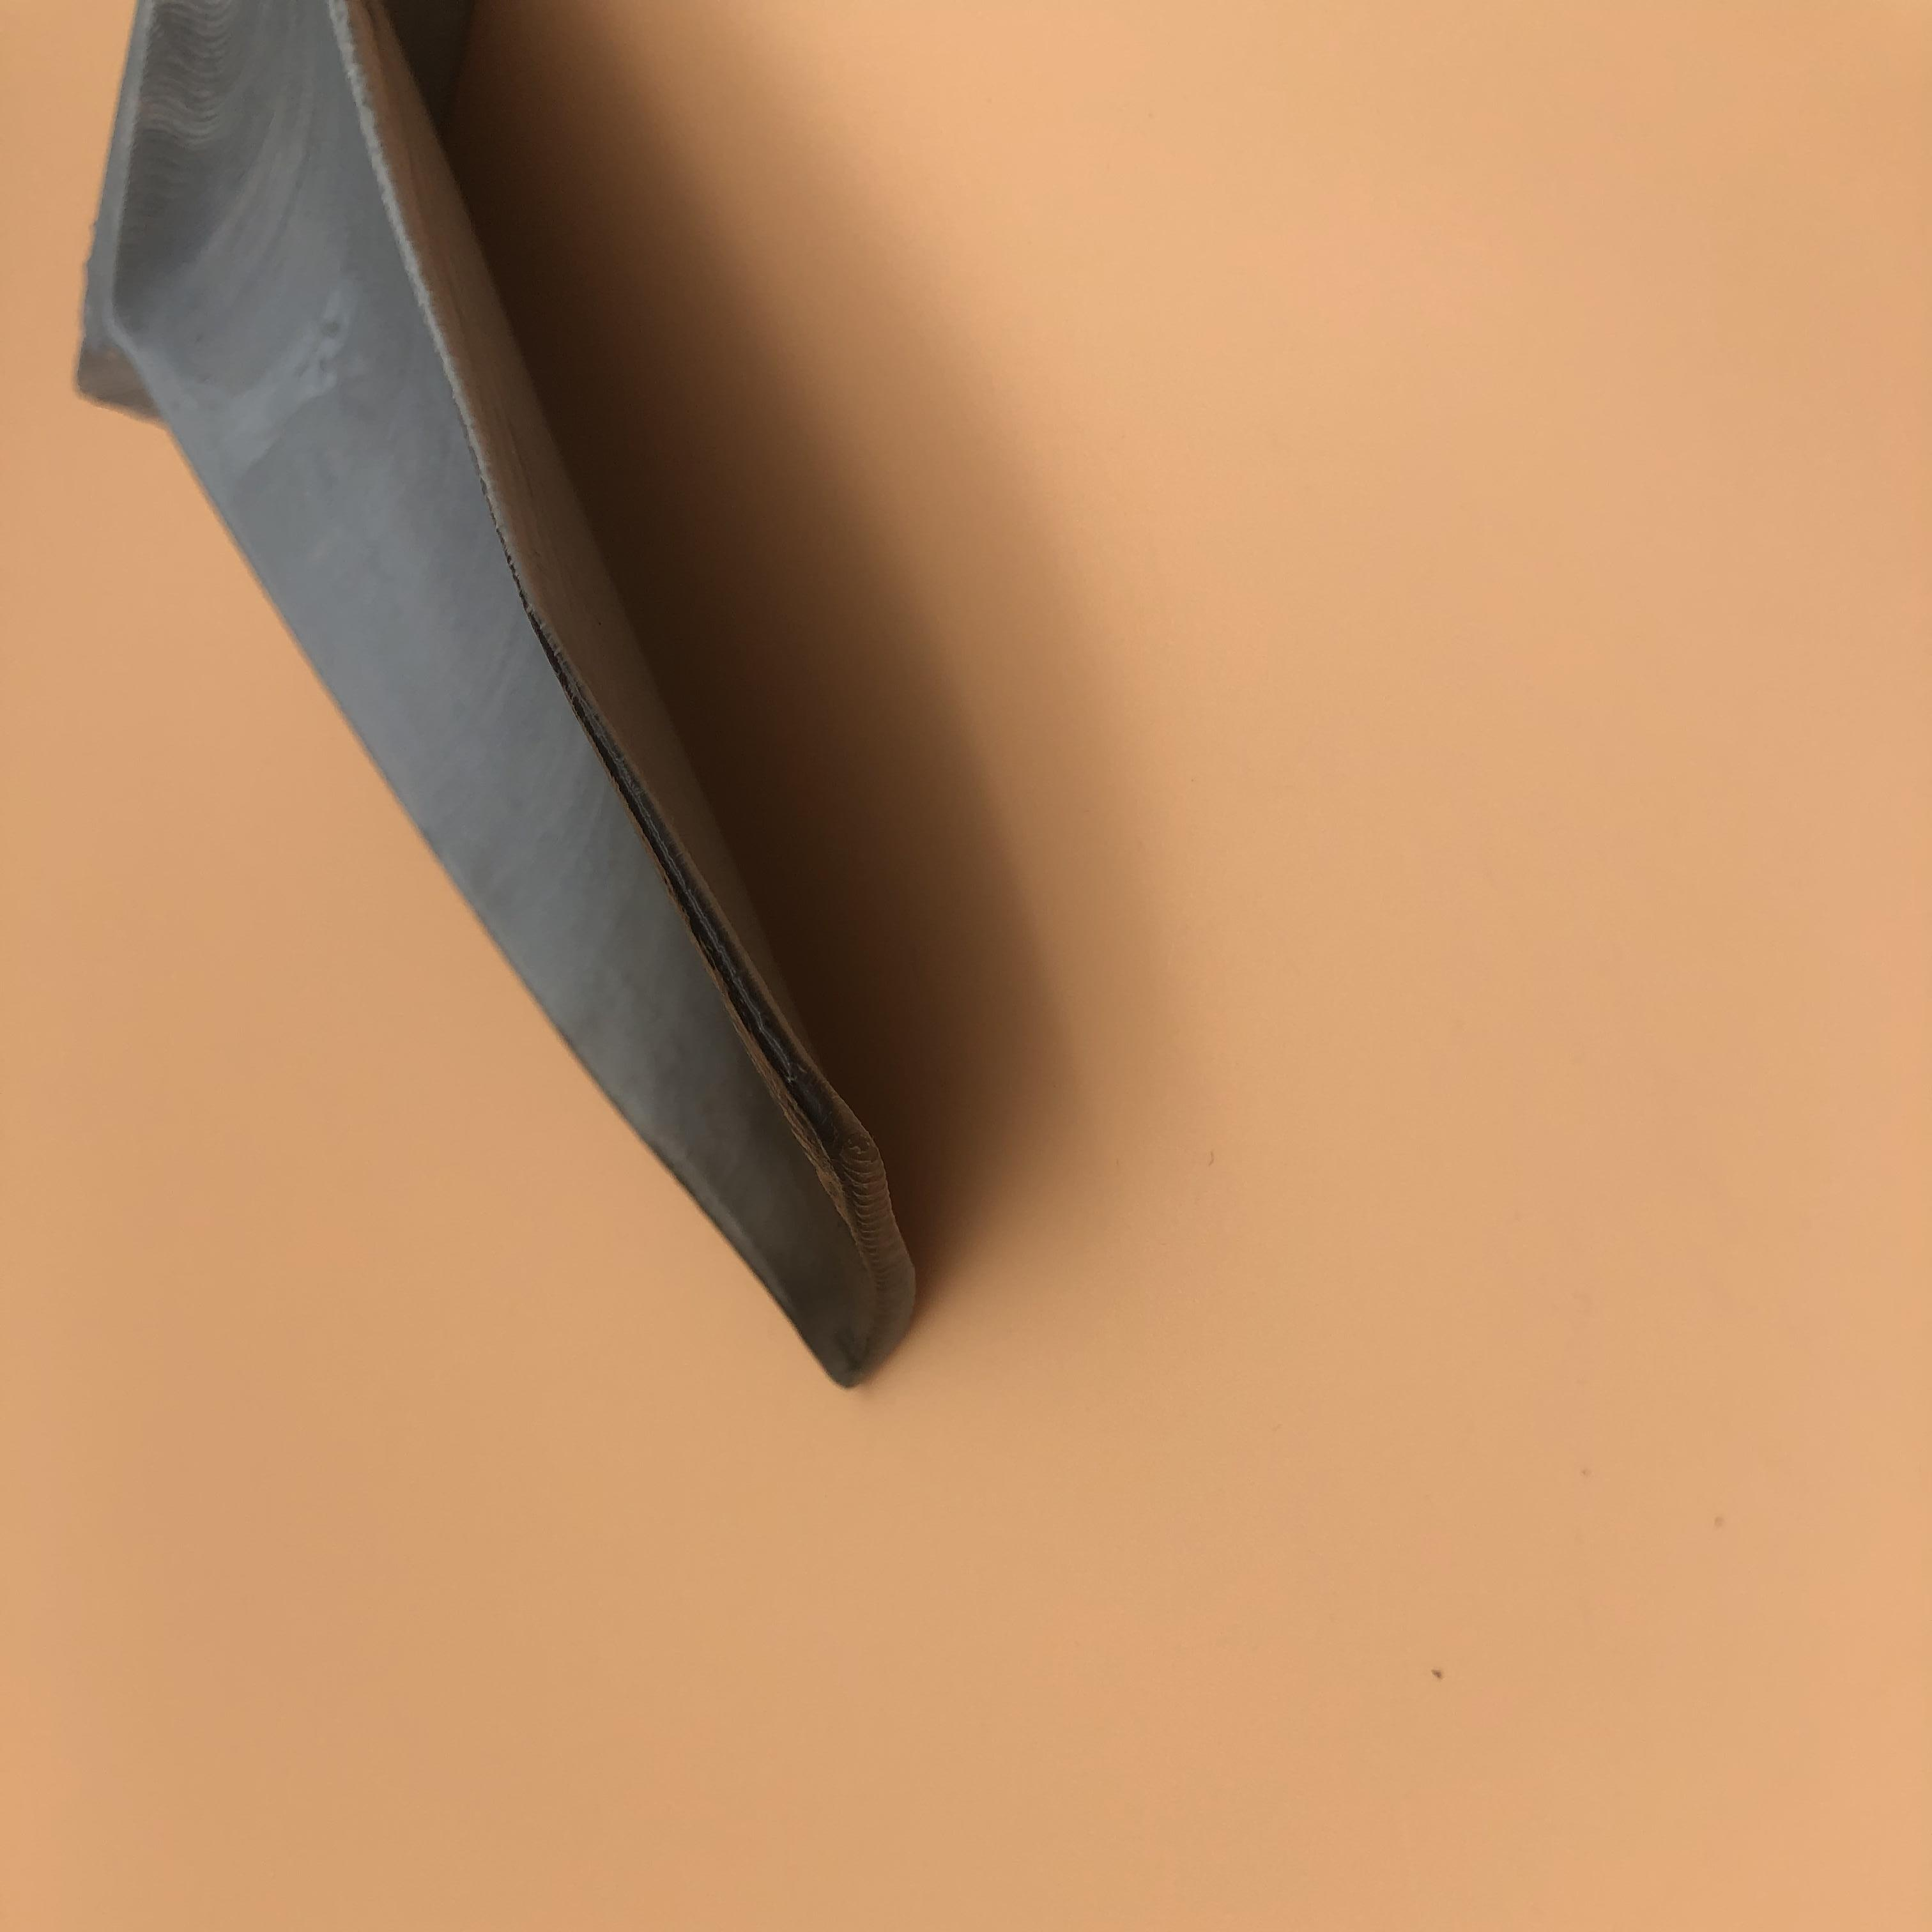ablation: (692, 959, 936, 1366)
